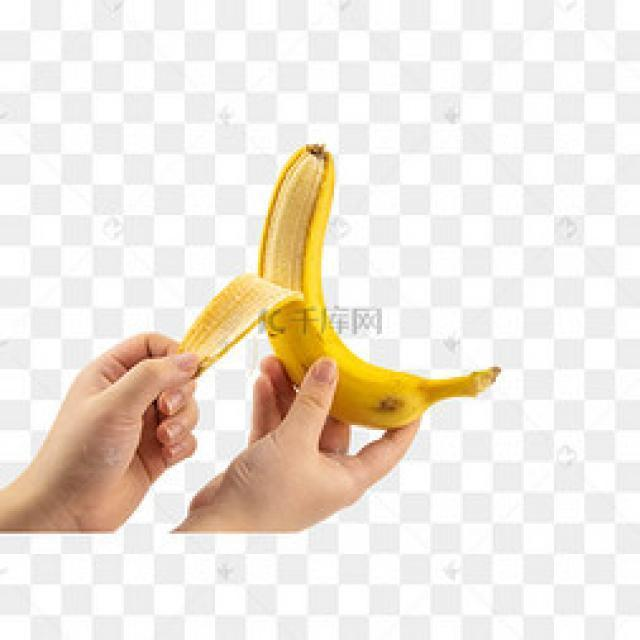banana-peel: (167, 141, 501, 430)
